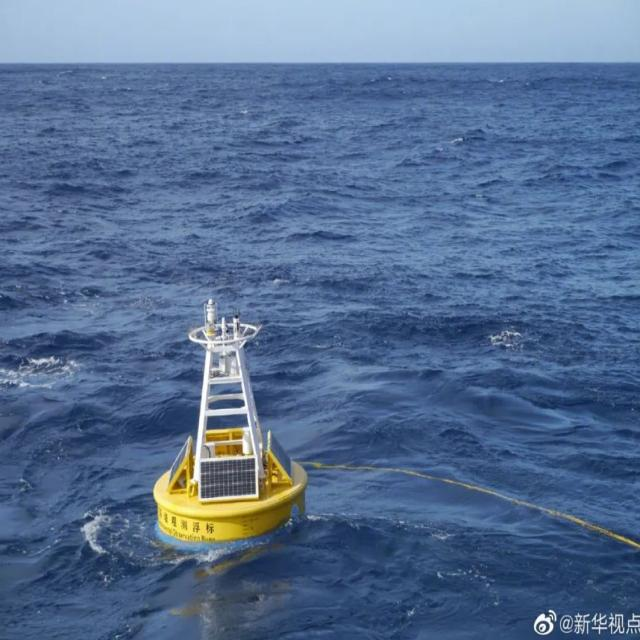buoy: (150, 297, 308, 555)
